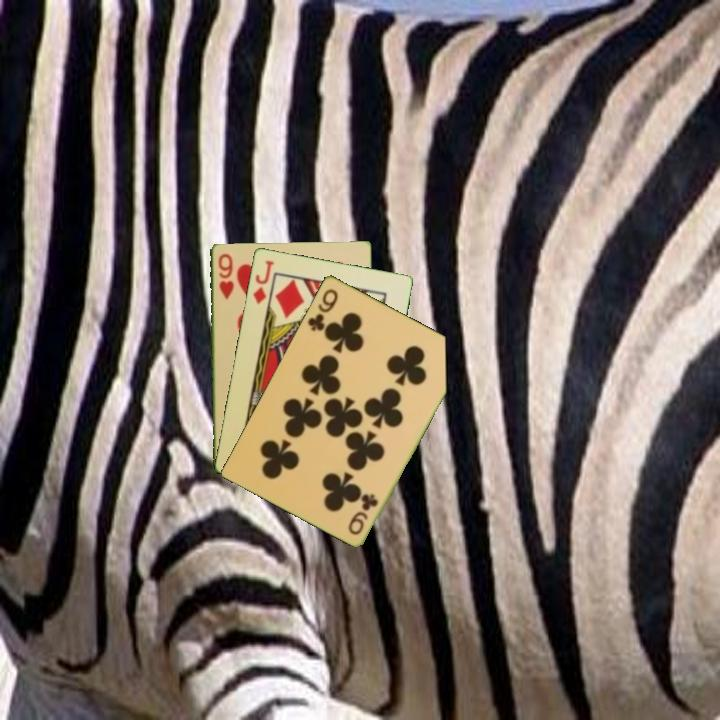9c: (304, 285, 341, 334), (344, 490, 381, 538)
9h: (214, 250, 236, 302)
Jd: (249, 256, 276, 307)
